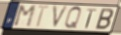B: (94, 8, 114, 31)
M: (13, 5, 37, 28)
Q: (63, 6, 82, 31)
T: (35, 4, 52, 29), (84, 8, 98, 30)
V: (51, 5, 70, 31)
